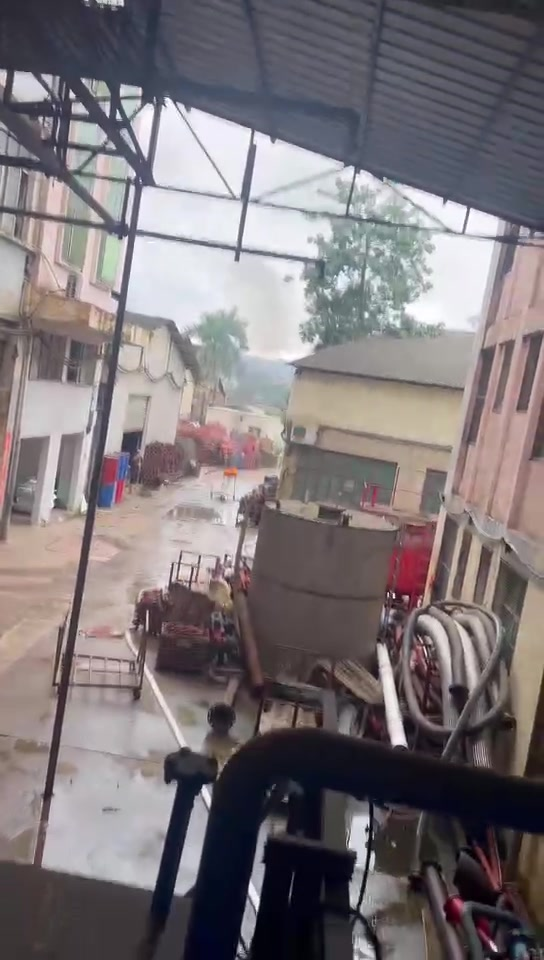fire: (226, 465, 236, 473)
